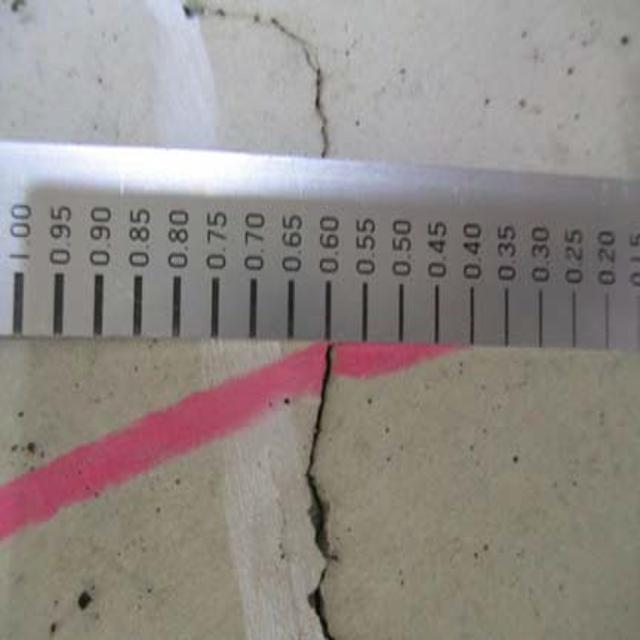crack: (183, 6, 344, 163), (289, 350, 364, 640)
